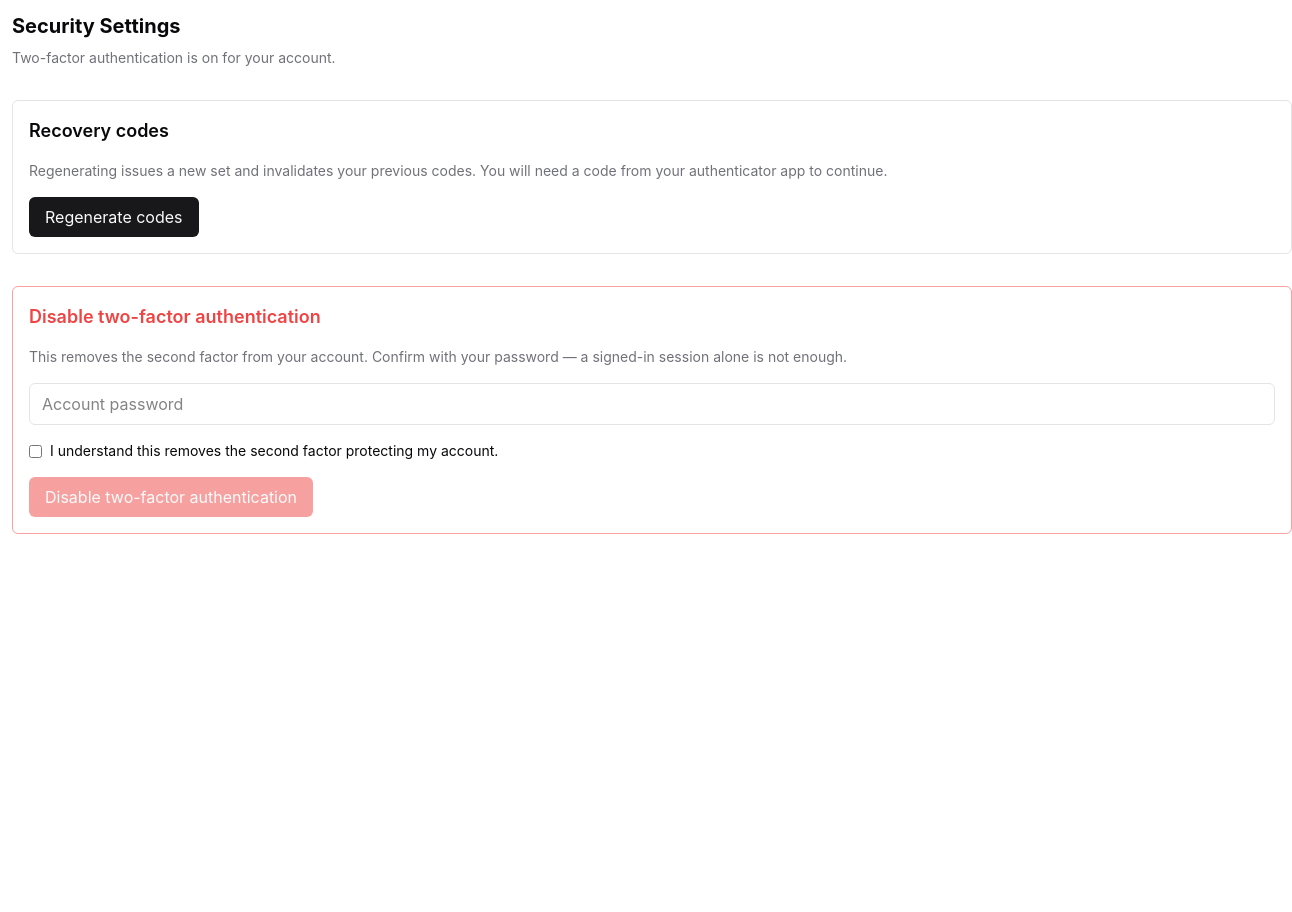
Test case: SecuritySettingsPage recovery-code regeneration › surfaces the backend detail when the code is wrong
Click the button "Regenerate codes" at (114, 217), box [29,197,198,237]
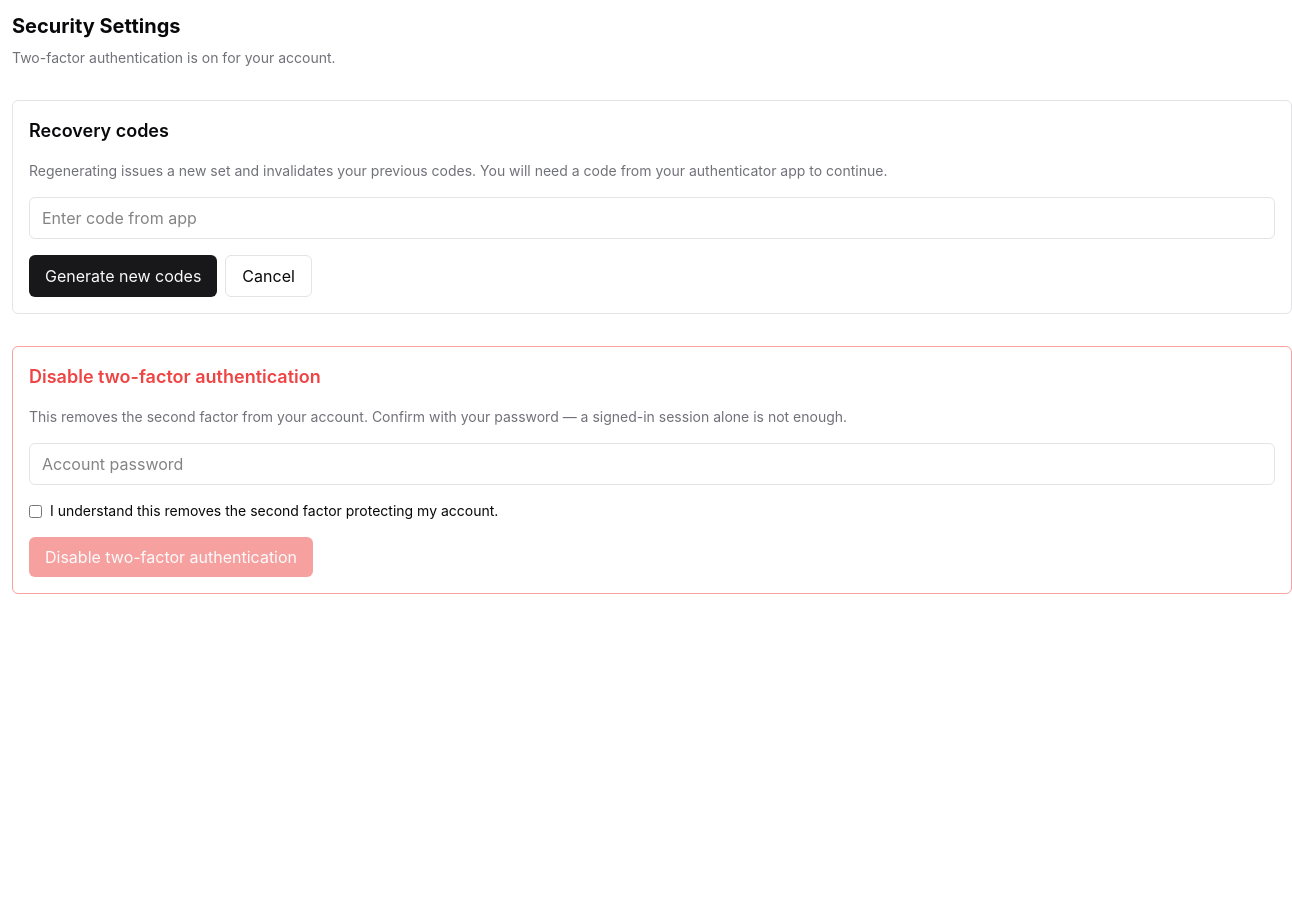
Type "000000" into the field with placeholder "Enter code from app" at (652, 218), box [29,197,1275,239]
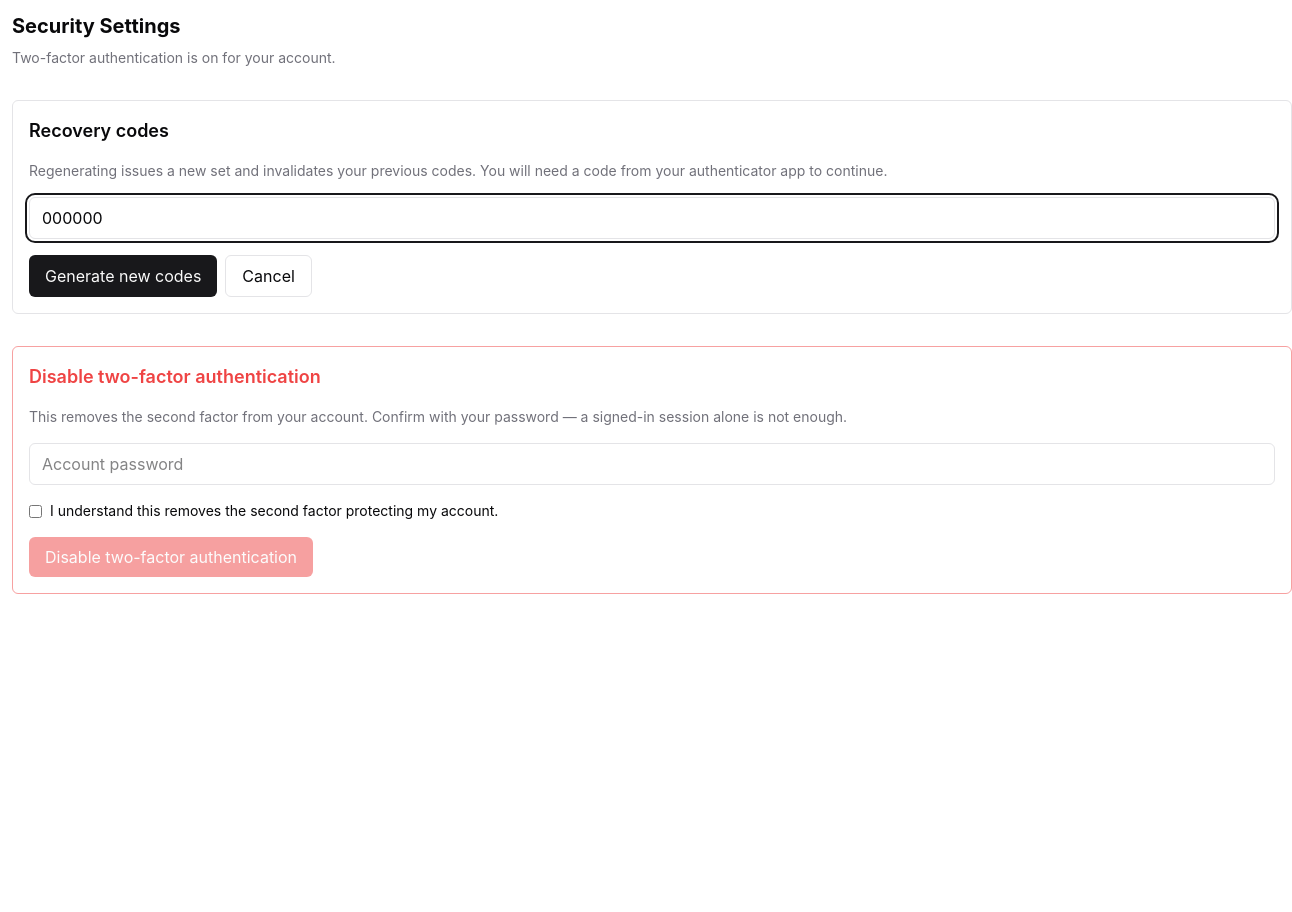
Click the button "Generate new codes" at (123, 276), box [29,255,217,297]
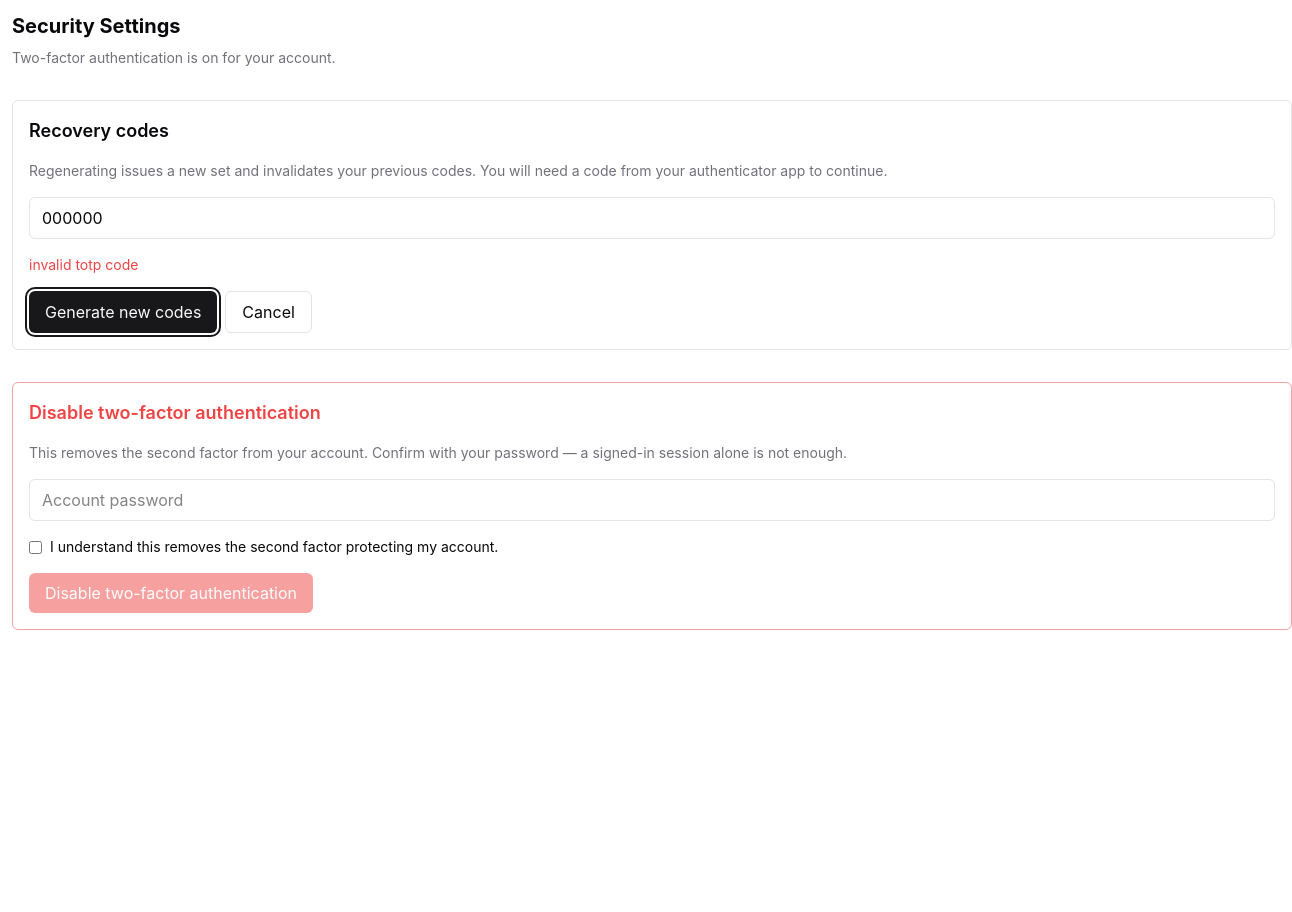
Expected: the message reads "invalid totp code", [29,256,138,273]
